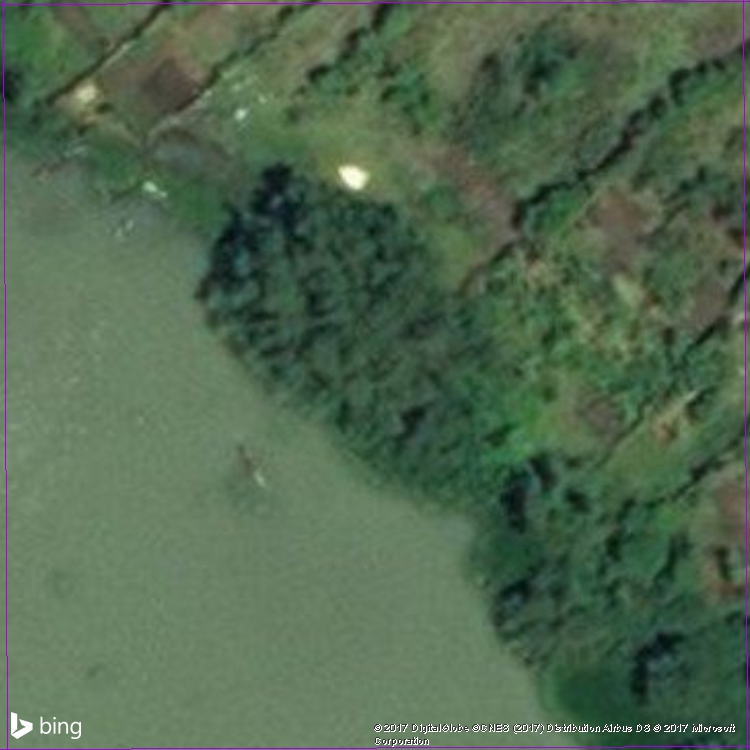boat: (226, 429, 272, 496)
